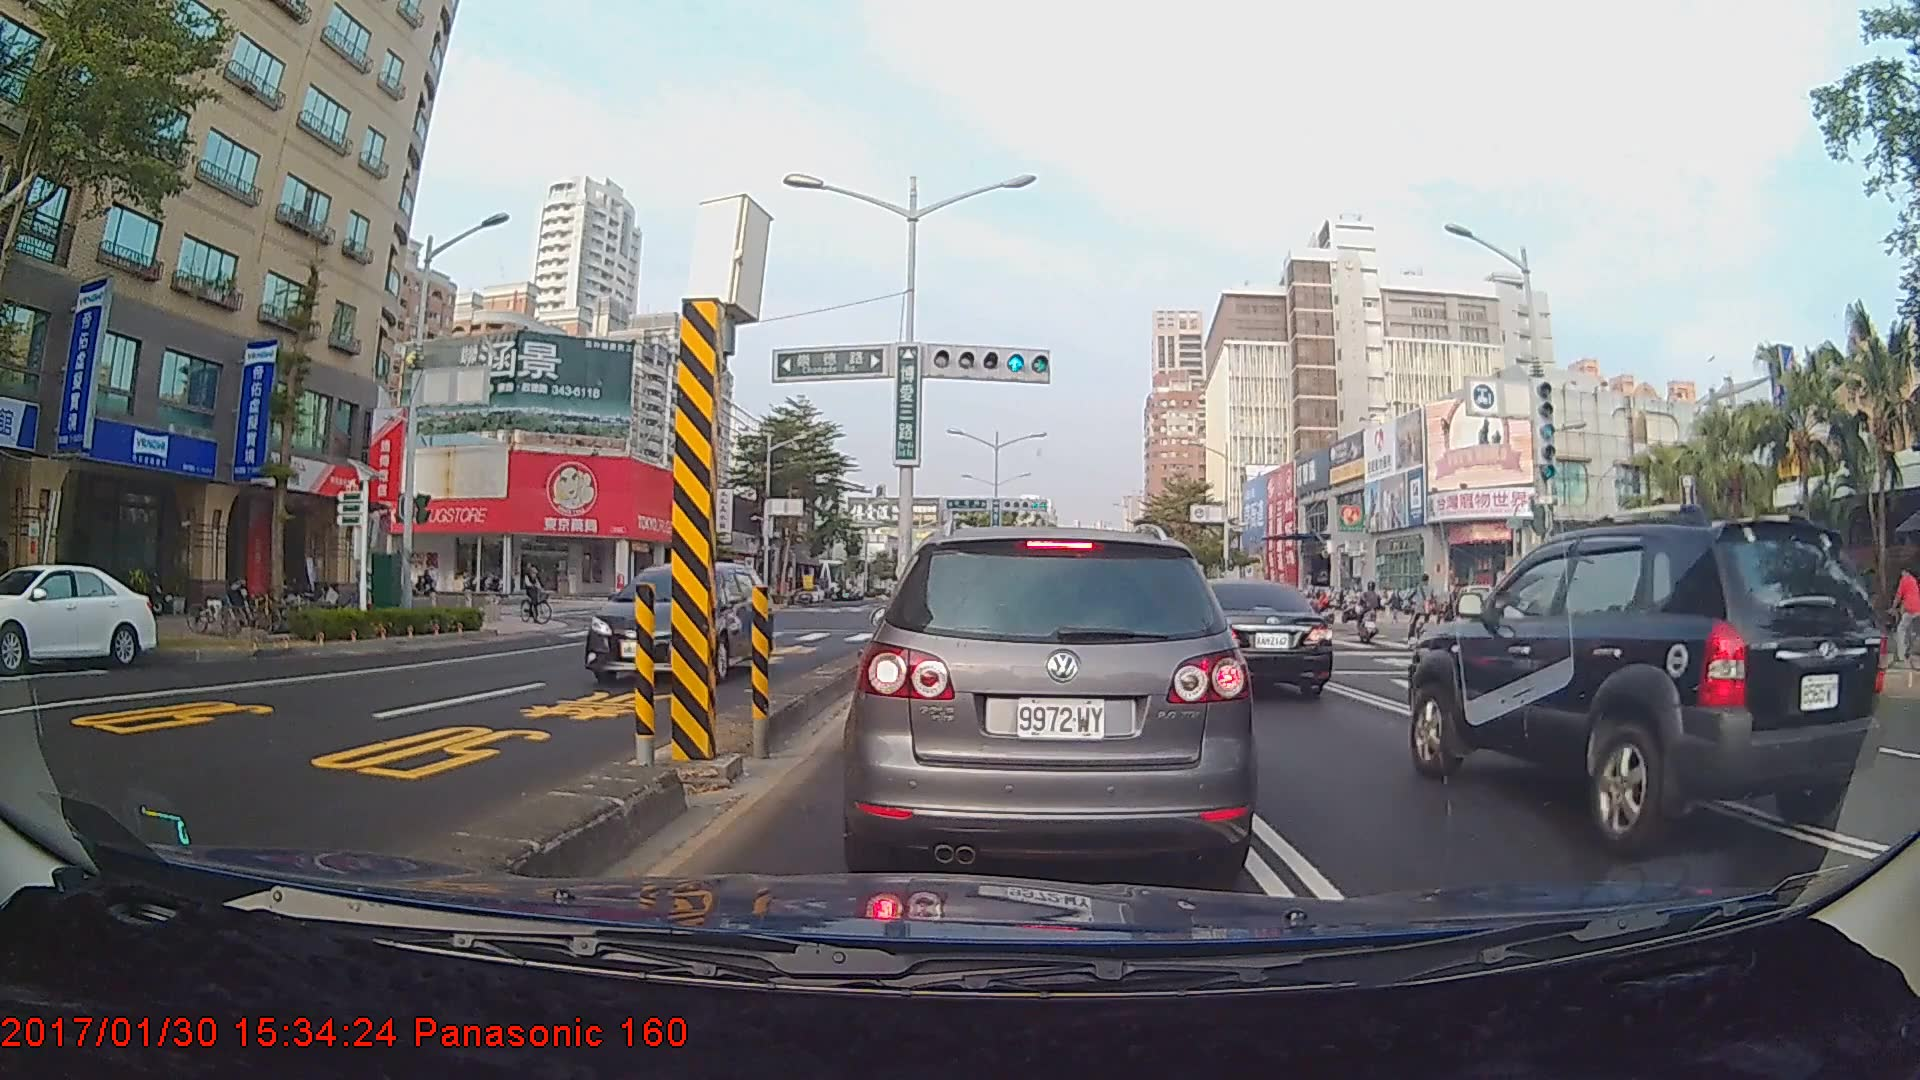rider: (1407, 570, 1441, 658), (518, 559, 561, 629), (1352, 580, 1387, 646), (417, 563, 439, 603)
vehicle: (1407, 513, 1891, 853), (858, 525, 1241, 879), (585, 562, 775, 684), (1160, 576, 1334, 698), (0, 561, 156, 671)
